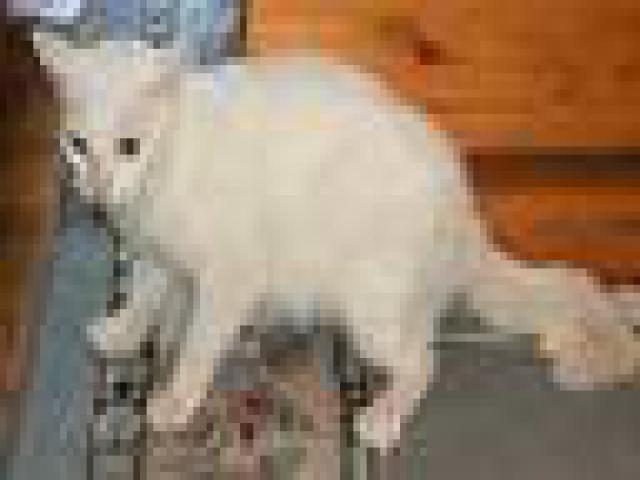cat: (14, 9, 468, 449)
